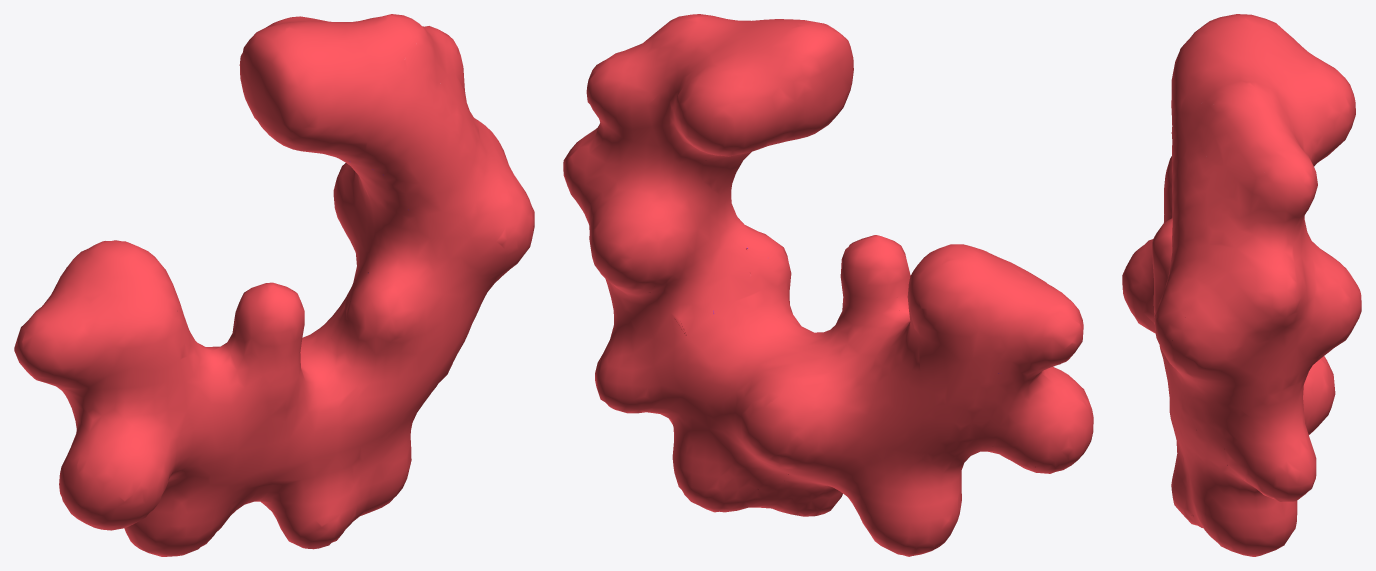
Rendered from pendiente_coral1.glb.
The picture shows the model from 3 angles, left to right: view 1: azimuth 30°, elevation 25°; view 2: azimuth 150°, elevation 25°; view 3: azimuth 270°, elevation 25°; orthographic projection.
Parts seen in each view (by area): view 1: pendiente_circular_4; view 2: pendiente_circular_4; view 3: pendiente_circular_4.
Part boxes in pixels (x1,y1,x2,y2): pendiente_circular_4: (14, 14, 534, 556); pendiente_circular_4: (563, 14, 1093, 556); pendiente_circular_4: (1122, 14, 1361, 556).
Bounding box in the file's own units: 46.59 × 45.26 × 19.52.
Materials: 1 (1 with a texture image).
